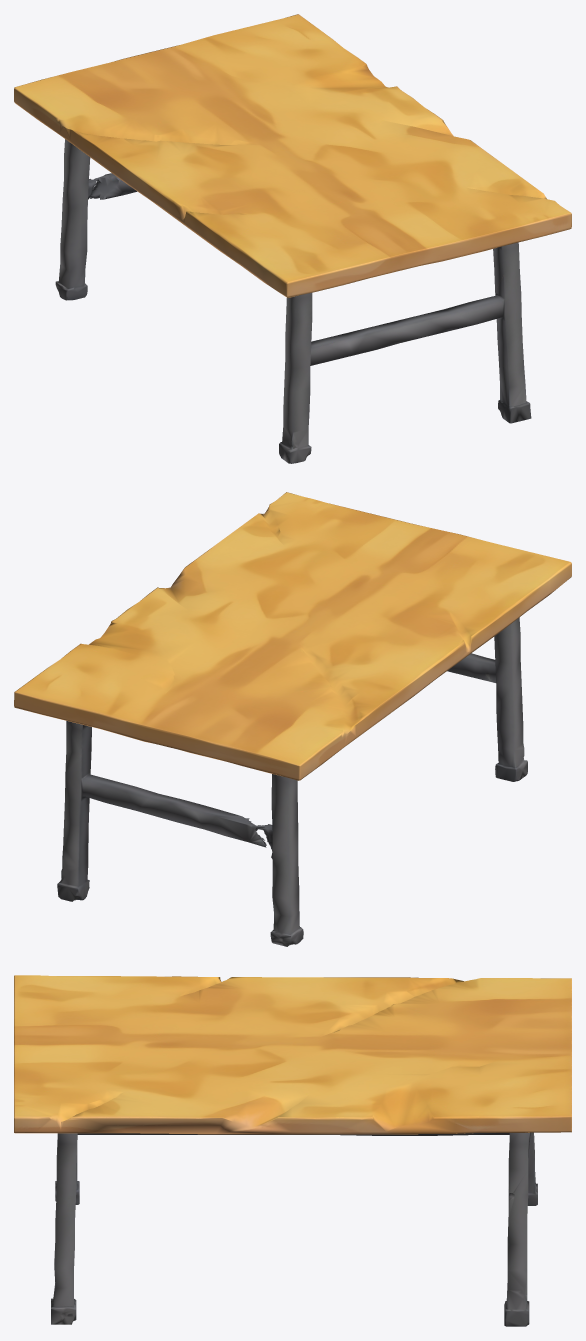
The model's file is table-long.glb.
3 renders of one model, top to bottom at view 1: azimuth 30°, elevation 25°; view 2: azimuth 150°, elevation 25°; view 3: azimuth 270°, elevation 25°, orthographic. The views are drawn at different scales.
Visible parts, largest first — view 1: tripo_node_kodyurd-model-82____________________; view 2: tripo_node_kodyurd-model-82____________________; view 3: tripo_node_kodyurd-model-82____________________.
Part boxes in pixels (left/top/right/bottom): tripo_node_kodyurd-model-82____________________: left=14, top=14, right=571, bottom=463; tripo_node_kodyurd-model-82____________________: left=14, top=492, right=571, bottom=946; tripo_node_kodyurd-model-82____________________: left=14, top=975, right=571, bottom=1326.
Size of the model in its own units: 0.6074 by 0.4395 by 0.998.
1 material, 1 textured.
